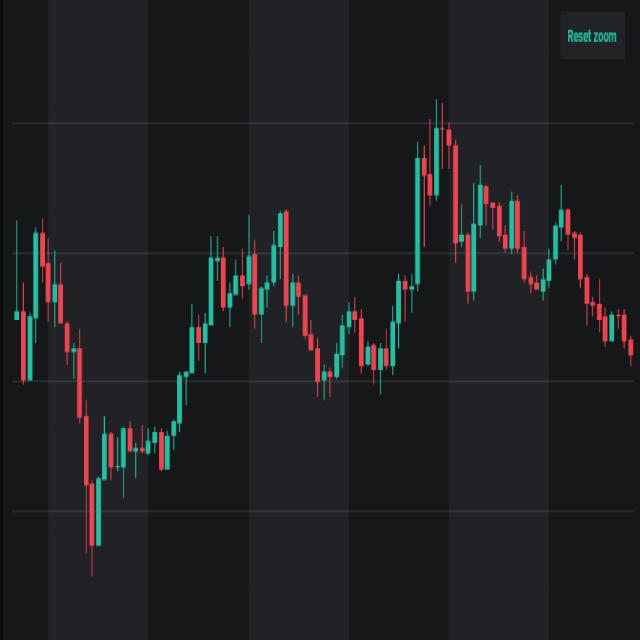Resistance-breakout: (324, 73, 453, 388)
